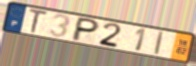1: (134, 27, 147, 53)
2: (99, 22, 123, 50)
3: (49, 14, 74, 40)
I: (152, 30, 165, 57)
P: (70, 16, 101, 43)
T: (28, 7, 49, 35)
